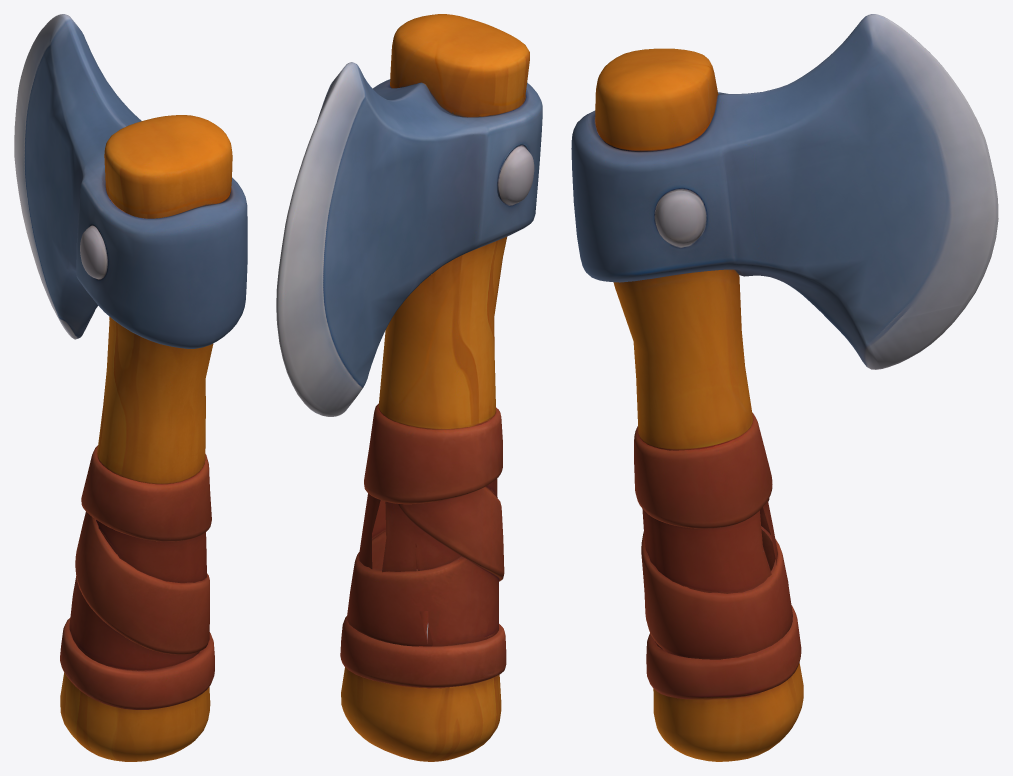
File: T01_axe.fbx
3 renders of one model, left to right at view 1: azimuth 30°, elevation 25°; view 2: azimuth 150°, elevation 25°; view 3: azimuth 270°, elevation 25°, orthographic. The views are drawn at different scales.
Visible parts, largest first — view 1: tripo_node_48b766b3; view 2: tripo_node_48b766b3; view 3: tripo_node_48b766b3.
Boxes of the visible parts, bbox=[...] form: tripo_node_48b766b3: bbox=[14, 14, 247, 761]; tripo_node_48b766b3: bbox=[276, 14, 542, 761]; tripo_node_48b766b3: bbox=[571, 14, 998, 761].
Size of the model in its own units: 0.2963 by 1.27 by 0.6687.
